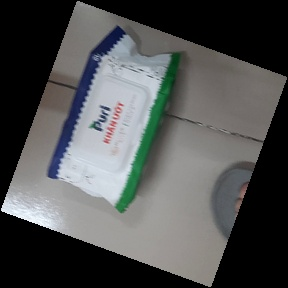Puri Trang: (42, 24, 182, 215)
